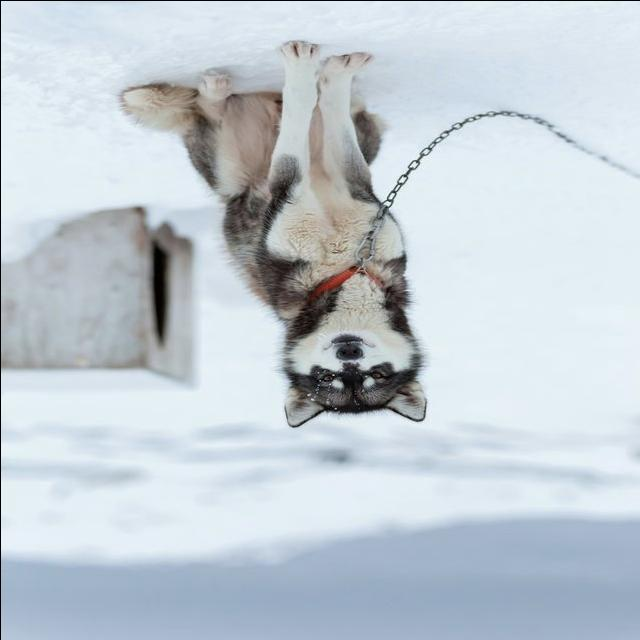husky: (119, 40, 428, 429)
